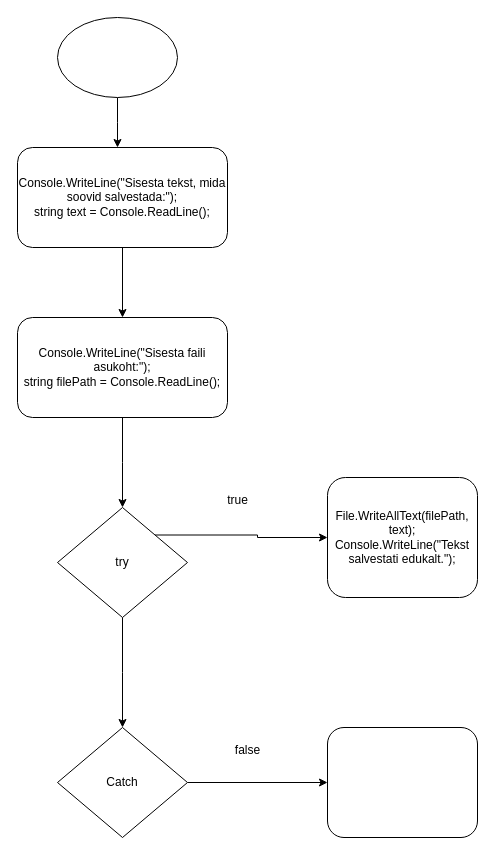
Some shapes in this 495 by 855 pixel diagram are drawn without their labels. The shapes that lost their labels are listed below. From the top down, each one's centre as x and y in pixels, then its label:
point (117, 57): Start
point (402, 782): Console.WriteLine( $"Tekkis viga: {ex.Message} " );
